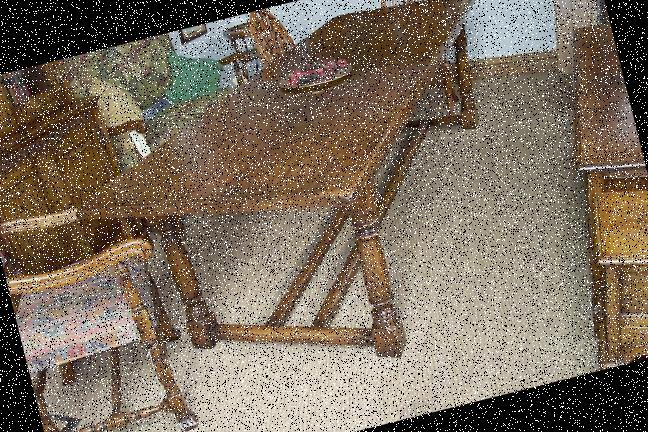Mesa: (44, 0, 550, 420)
Silla: (0, 154, 222, 431), (240, 0, 386, 179), (348, 0, 482, 136)
